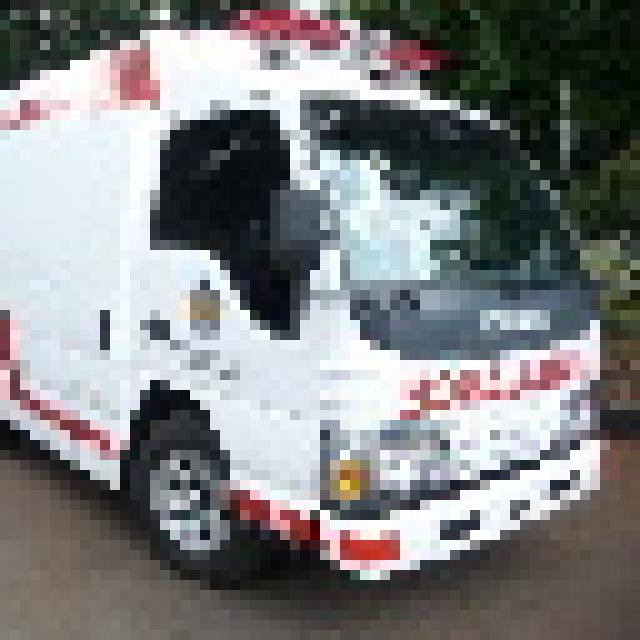Ambulance: (0, 0, 600, 580)
